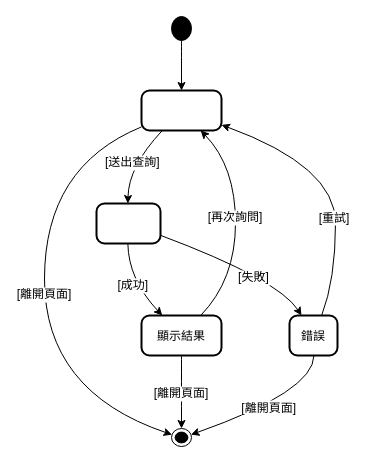
The diagram is 367 pixels wide and 463 high, and some of its shapes have lost their labels. Each missing label, with the centre of its shape:
查詢中: pixel 128 223
等待輸入: pixel 181 110
